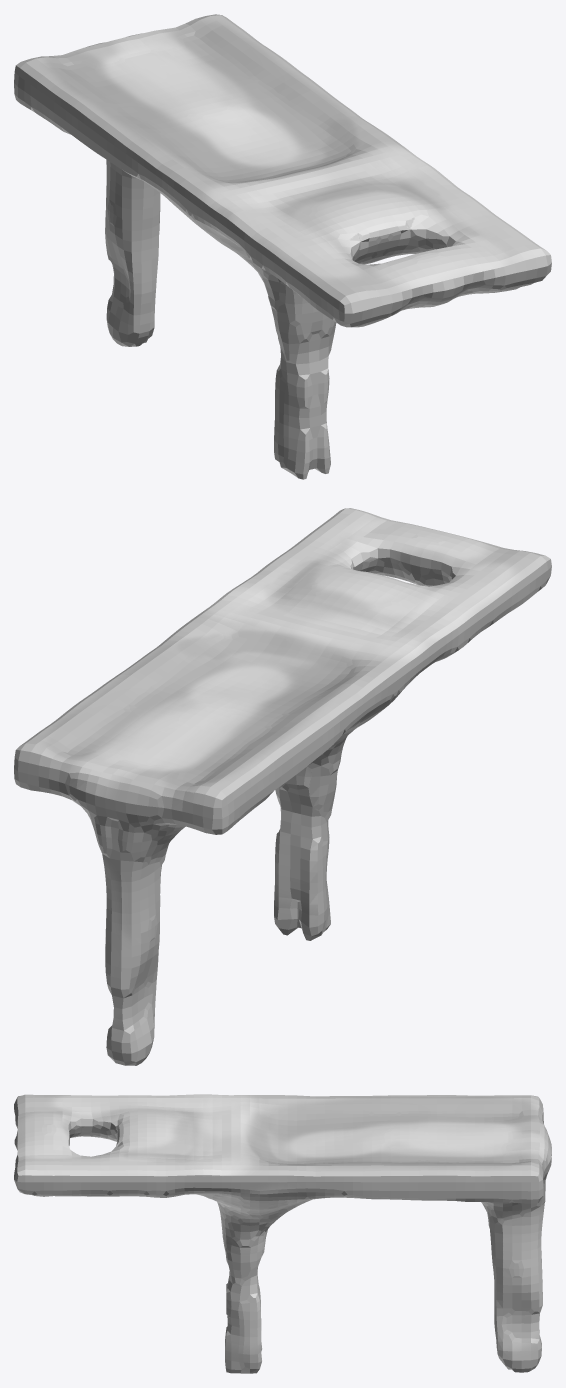
The model's file is Bridge.fbx.
3 views of the same model, one above another, from view 1: azimuth 30°, elevation 25°; view 2: azimuth 150°, elevation 25°; view 3: azimuth 270°, elevation 25° (orthographic). The views are drawn at different scales.
Visible parts, largest first — view 1: Bridge1; view 2: Bridge1; view 3: Bridge1.
Part boxes in pixels (x1,y1,x2,y2): Bridge1: [14, 14, 551, 479]; Bridge1: [14, 508, 551, 1065]; Bridge1: [14, 1094, 551, 1373].
Bounding box in the file's own units: 1083 × 1506 × 3025.
1 material, 1 textured.
